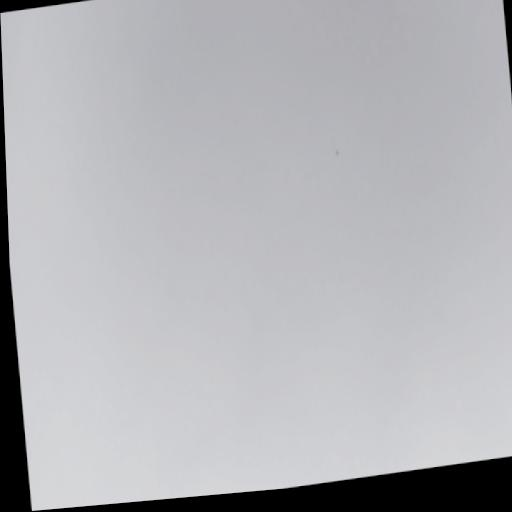drones: (334, 147, 341, 159)
